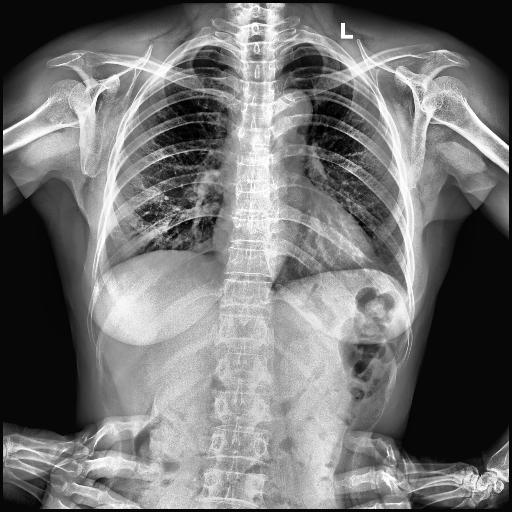0- Aortic enlargement: (266, 85, 314, 143), (264, 86, 312, 142), (271, 88, 314, 144)
3- Cardiomegaly: (210, 208, 380, 274), (212, 214, 377, 268)
